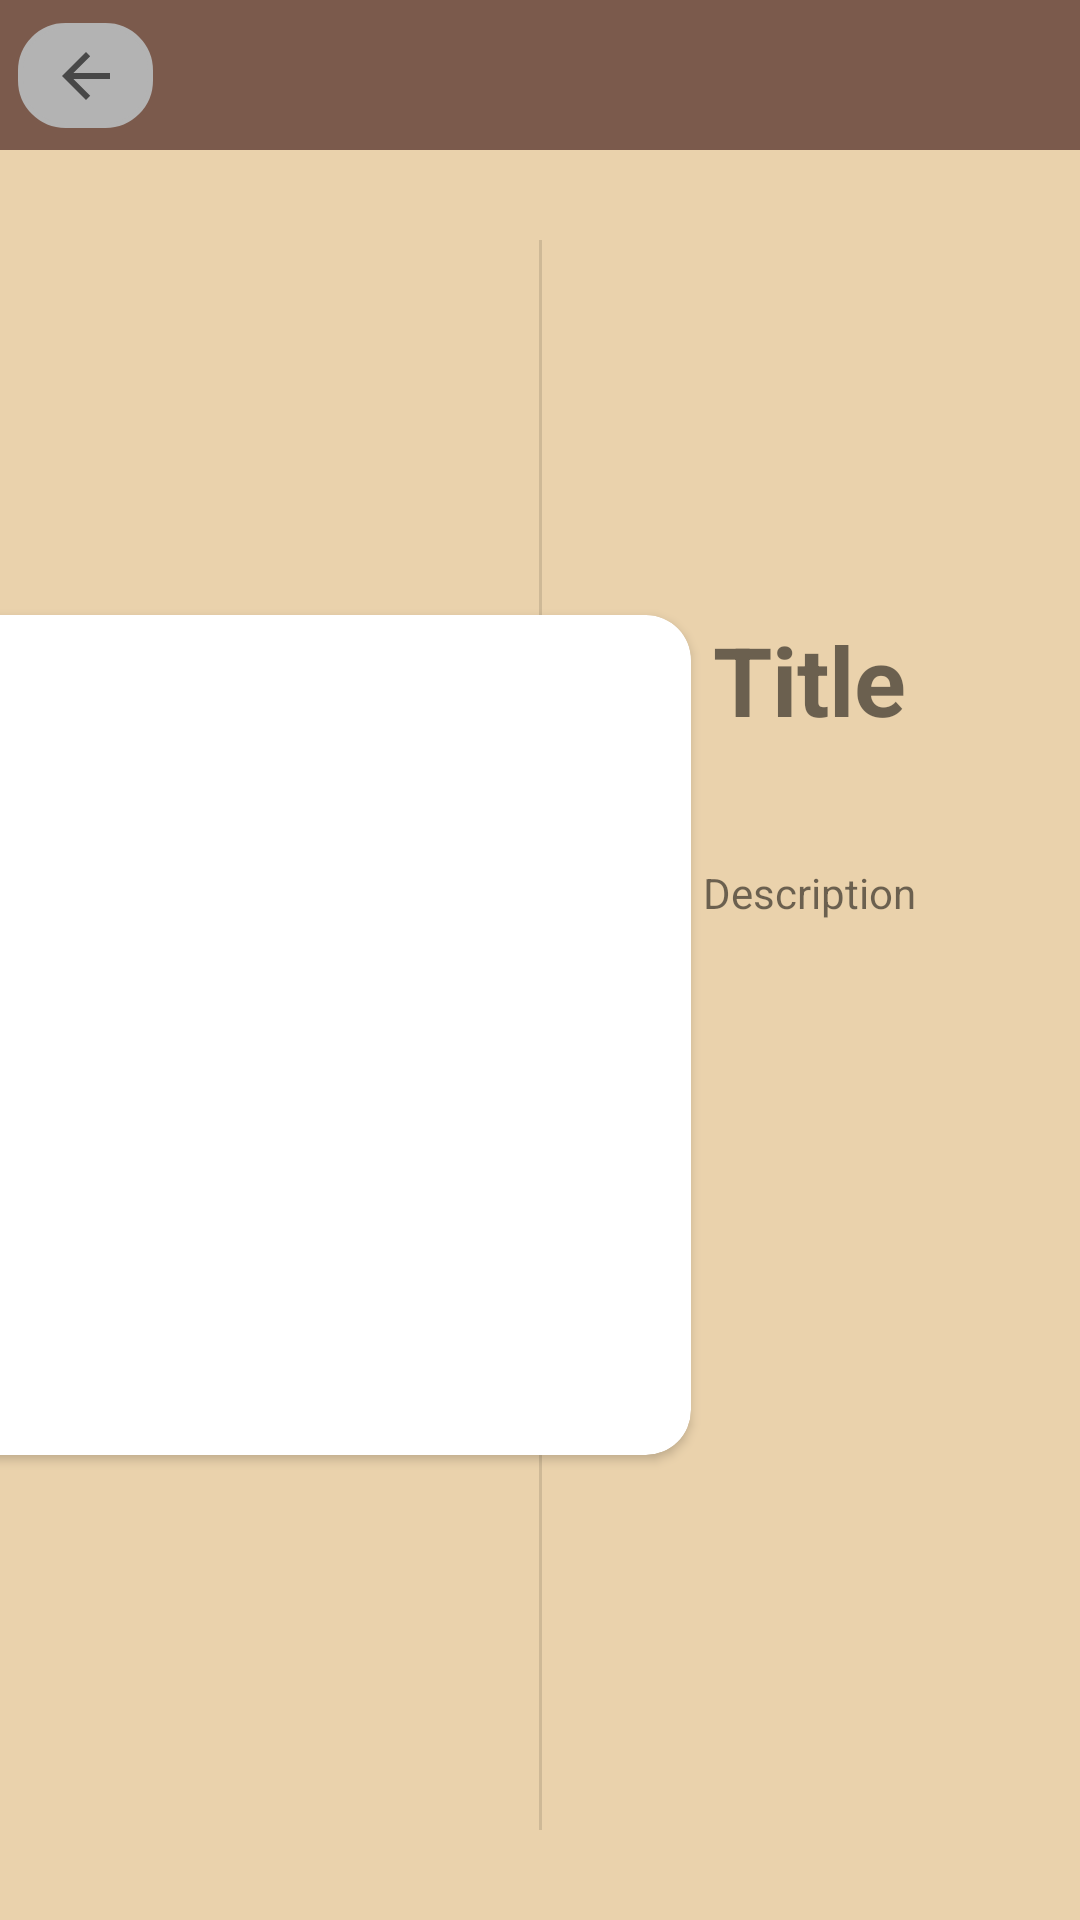

Named icons in this screenshot (1080w x 1920h) and their centers, point (x, y):
Back: point (85, 75)
